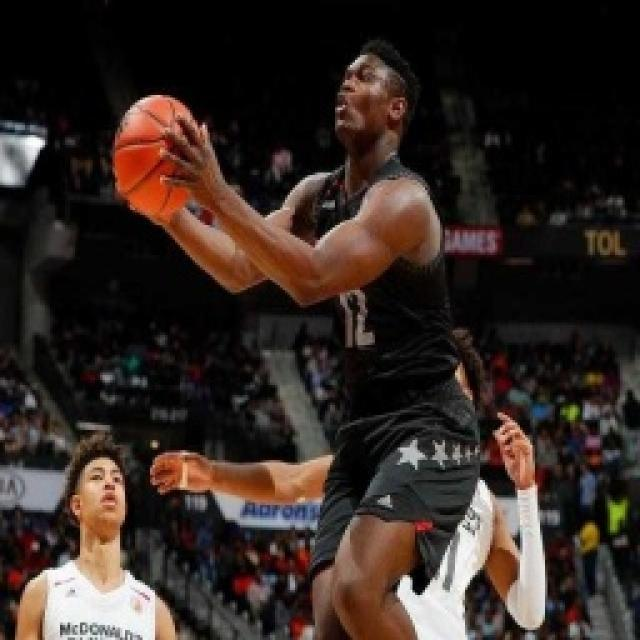rim: (110, 95, 208, 219)
